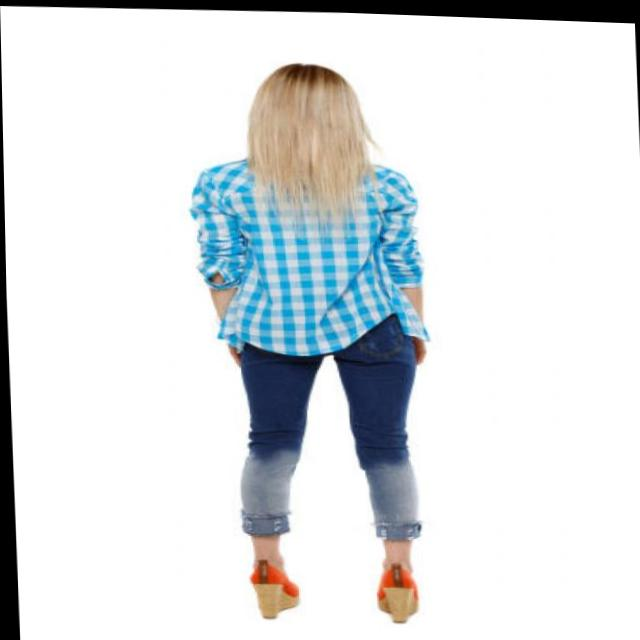no helmet: (235, 51, 370, 156)
